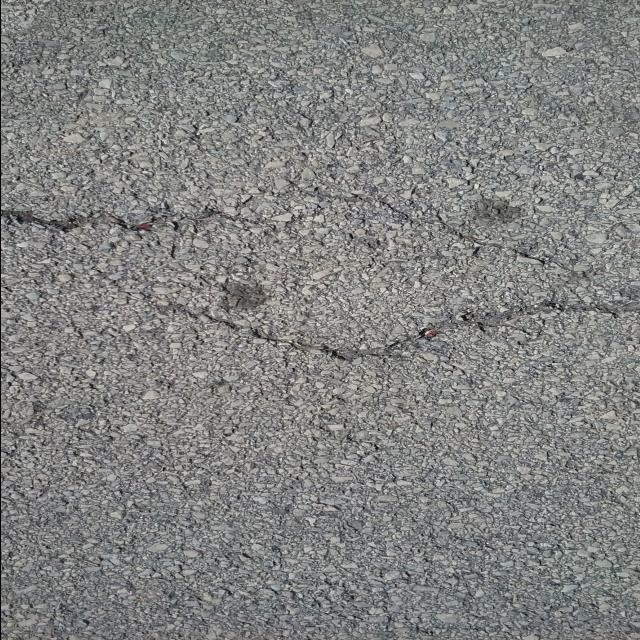Crack: (195, 298, 640, 362), (0, 206, 266, 232)
